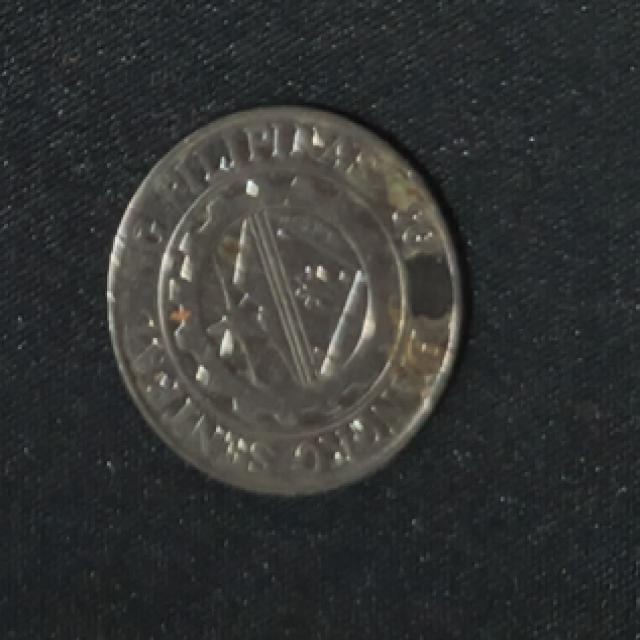1_peso: (109, 110, 460, 490)
